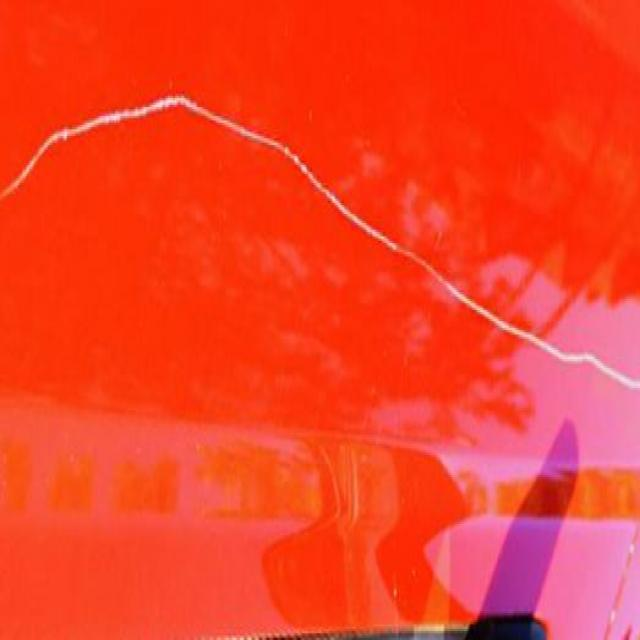scratch: (5, 82, 640, 400)
